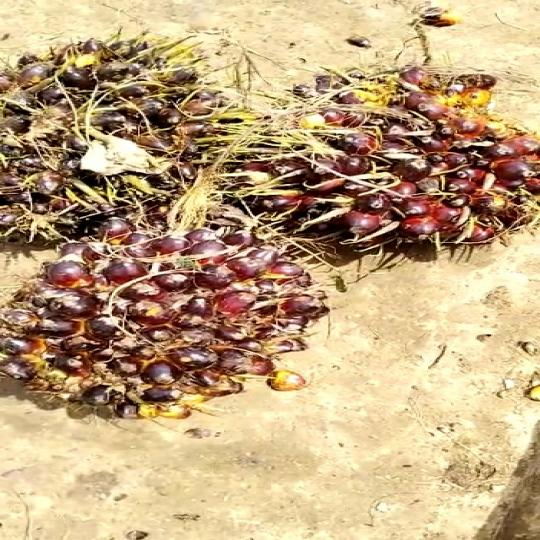kurang masak: (0, 217, 322, 430), (246, 48, 536, 254), (0, 37, 217, 242)
